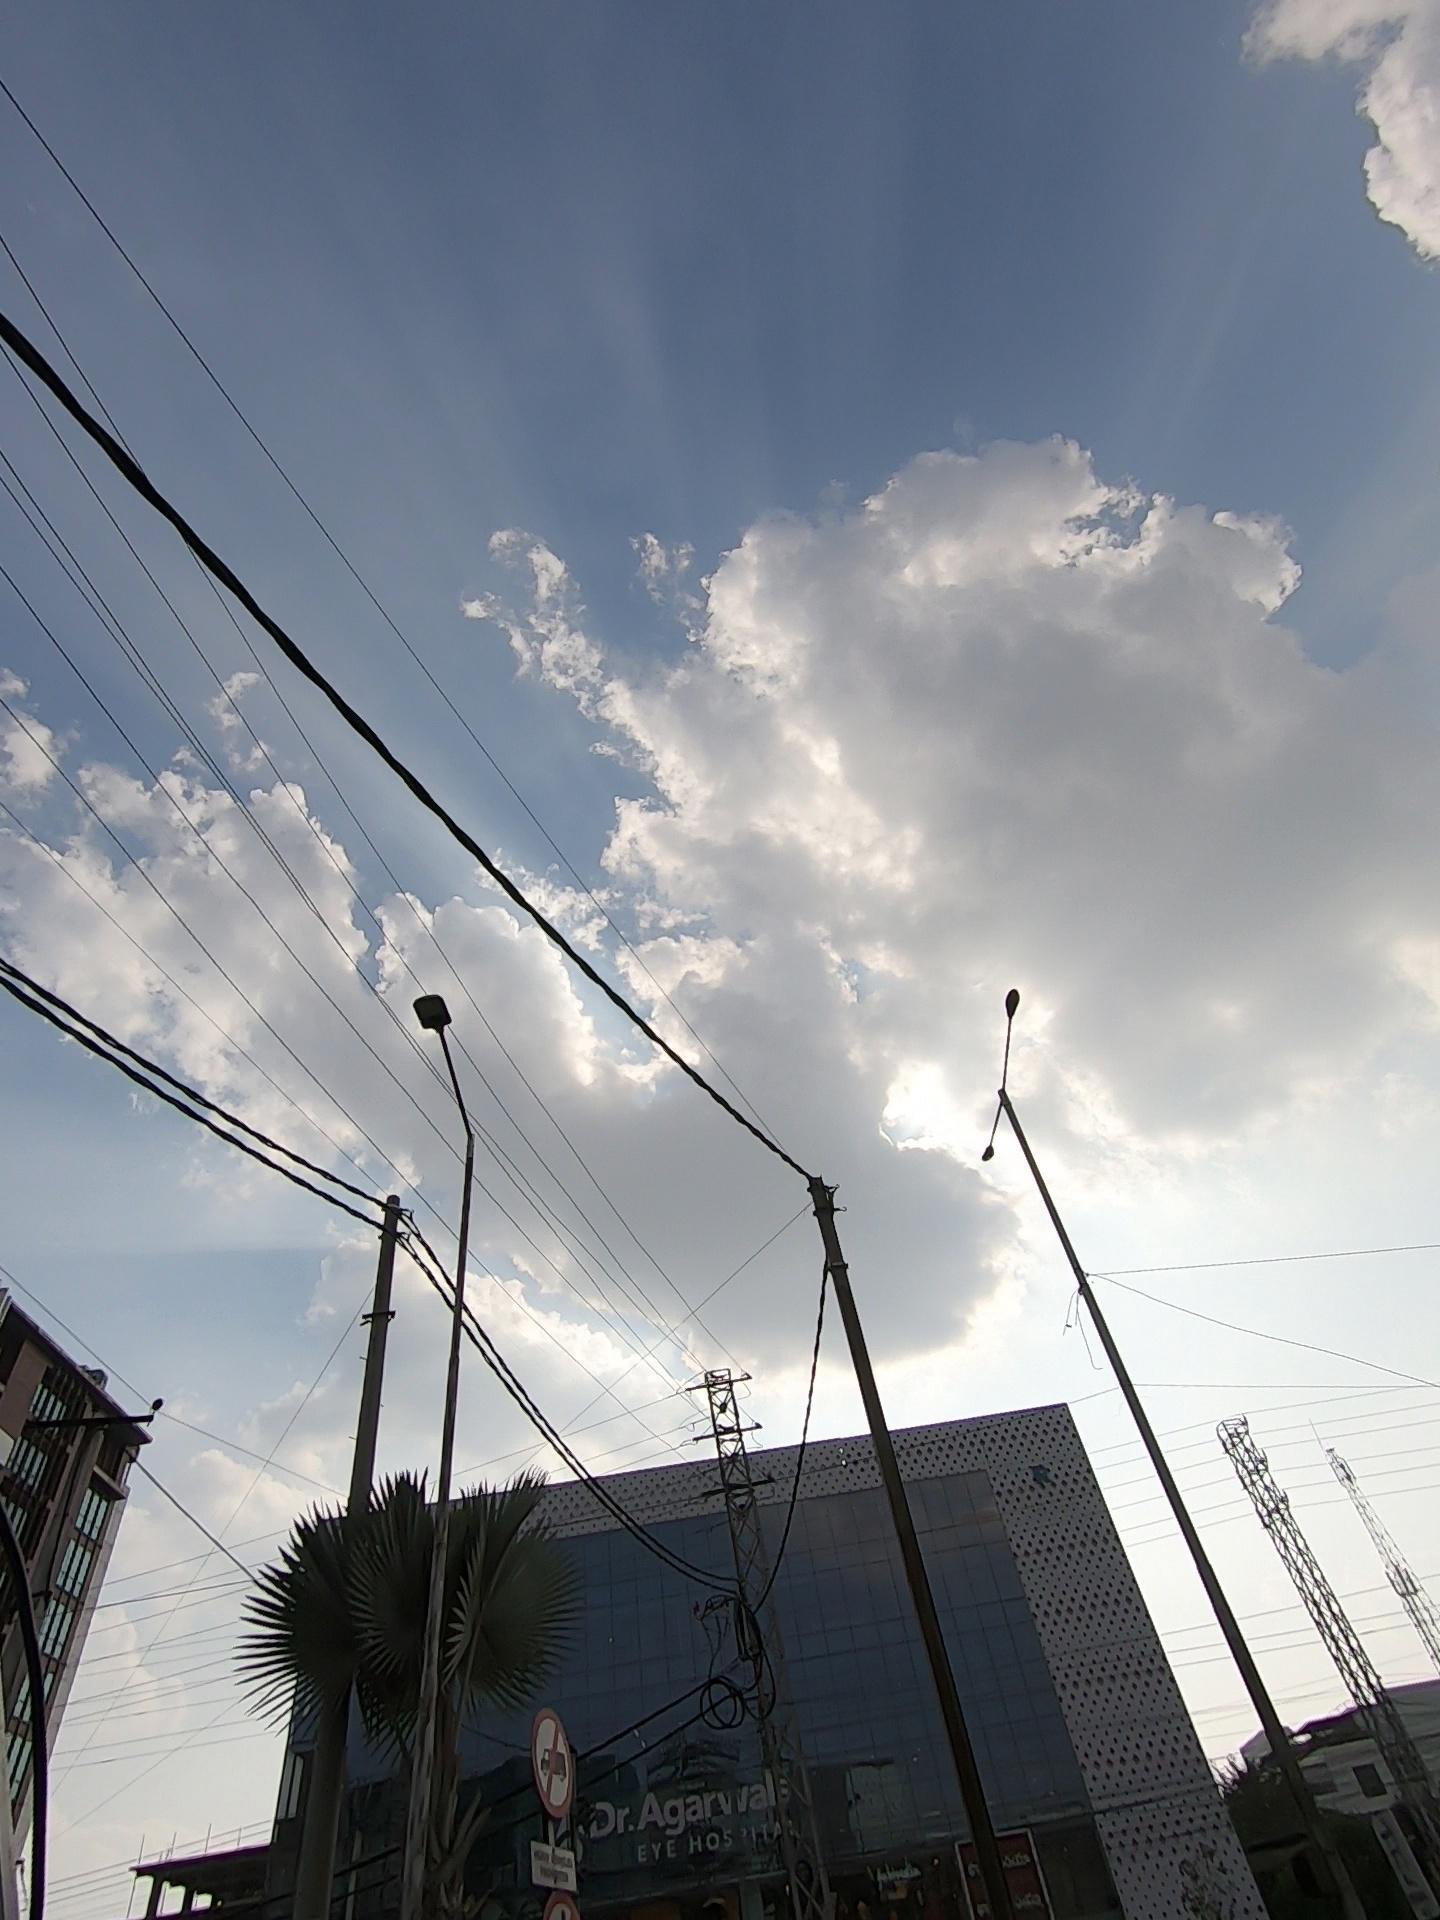off: (365, 890, 576, 1279), (900, 977, 1083, 1208)
